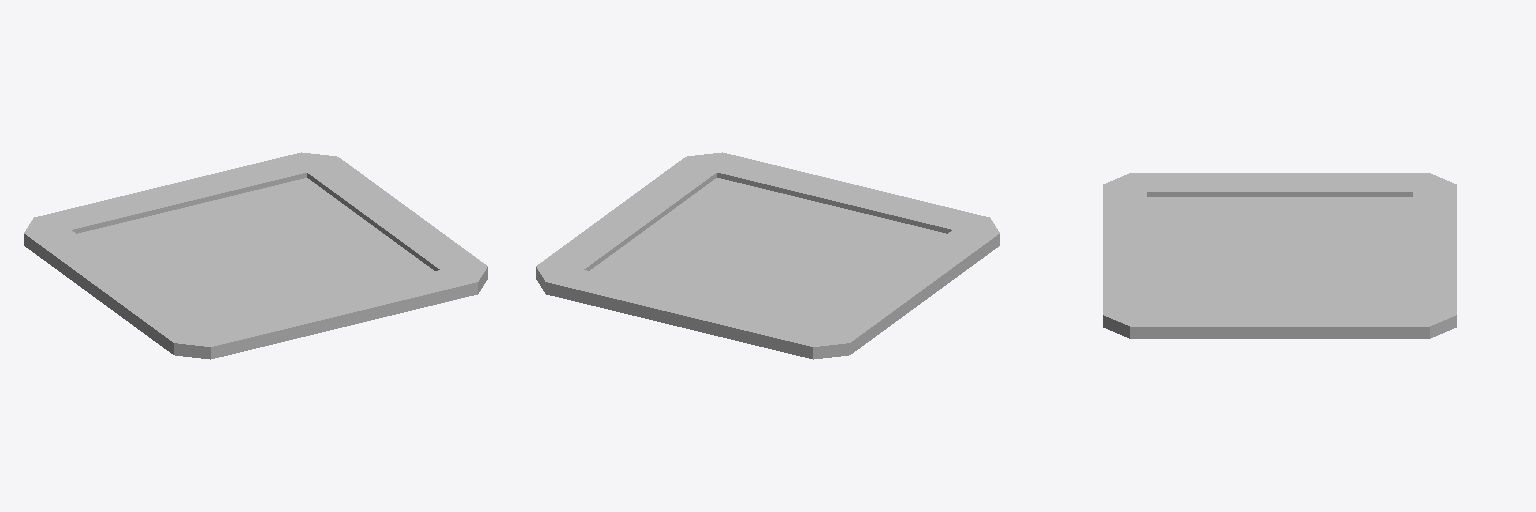
The model's file is ChessObject.obj.
3 renders of one model, left to right at view 1: azimuth 30°, elevation 25°; view 2: azimuth 150°, elevation 25°; view 3: azimuth 270°, elevation 25°, orthographic.
Visible parts, largest first — view 1: Cube; view 2: Cube; view 3: Cube.
Part boxes in pixels (bbox=[...]): Cube: bbox=[24, 152, 487, 359]; Cube: bbox=[536, 152, 999, 359]; Cube: bbox=[1103, 173, 1456, 338].
Bounding box in the file's own units: 148 × 5.54 × 144.